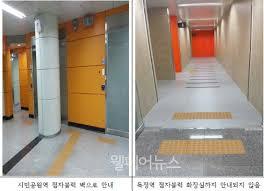guide_blocks: (159, 140, 243, 153), (173, 112, 234, 119)
